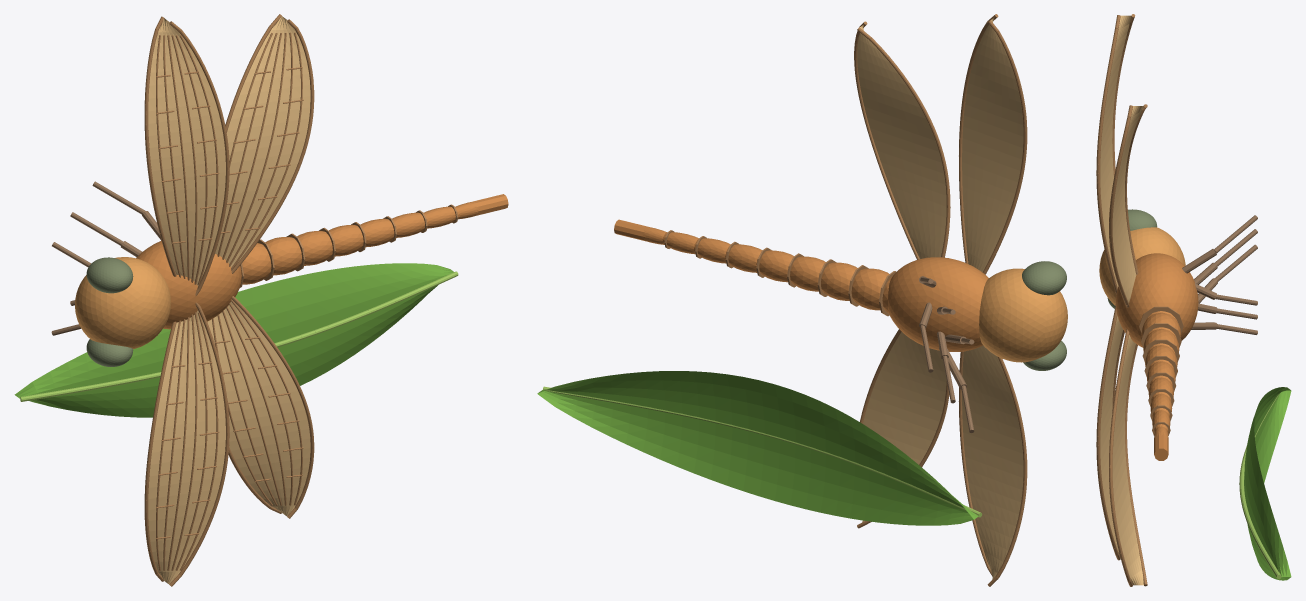
File: dragonfly_3d_model.glb
The picture shows the model from 3 angles, left to right: view 1: azimuth 30°, elevation 25°; view 2: azimuth 150°, elevation 25°; view 3: azimuth 270°, elevation 25°; orthographic projection. The views are drawn at different scales.
Visible parts, largest first — view 1: Curved green leaf perch, Fore wing membrane -1, Fore wing membrane 1, Hind wing membrane 1, Hind wing membrane -1, Head, Thorax, Right compound eye, Abdomen segment 3, Abdomen segment 4, Left compound eye, Abdomen segment 2 (+3 smaller); view 2: Curved green leaf perch, Fore wing membrane 1, Hind wing membrane 1, Fore wing membrane -1, Hind wing membrane -1, Thorax, Head, Right compound eye, Abdomen segment 2, Abdomen segment 3, Abdomen segment 4, Abdomen segment 5 (+1 smaller); view 3: Curved green leaf perch, Thorax, Hind wing membrane -1, Fore wing membrane 1, Hind wing membrane 1, Fore wing membrane -1, Head, Abdomen segment 2, Right compound eye, Abdomen segment 3, Abdomen segment 4, Abdomen segment 5 (+10 smaller).
Part boxes in pixels (x1,y1,x2,y2): Curved green leaf perch: [14, 263, 453, 417]; Fore wing membrane -1: [148, 310, 225, 584]; Fore wing membrane 1: [148, 18, 225, 286]; Hind wing membrane 1: [215, 16, 310, 267]; Hind wing membrane -1: [207, 301, 310, 516]; Head: [75, 257, 171, 348]; Thorax: [136, 240, 241, 329]; Right compound eye: [86, 257, 133, 293]; Abdomen segment 3: [265, 237, 301, 275]; Abdomen segment 4: [297, 231, 335, 265]; Left compound eye: [86, 339, 133, 366]; Abdomen segment 2: [242, 243, 271, 284]; Curved green leaf perch: [537, 371, 978, 525]; Fore wing membrane 1: [962, 17, 1023, 272]; Hind wing membrane 1: [857, 24, 946, 258]; Fore wing membrane -1: [962, 345, 1023, 579]; Hind wing membrane -1: [862, 332, 946, 522]; Thorax: [888, 257, 988, 351]; Head: [979, 268, 1067, 362]; Right compound eye: [1022, 261, 1066, 295]; Abdomen segment 2: [851, 268, 888, 310]; Abdomen segment 3: [821, 262, 857, 300]; Abdomen segment 4: [790, 256, 825, 291]; Abdomen segment 5: [756, 250, 793, 282]; Curved green leaf perch: [1244, 387, 1291, 580]; Thorax: [1116, 253, 1198, 347]; Hind wing membrane -1: [1112, 335, 1143, 585]; Fore wing membrane 1: [1100, 15, 1131, 287]; Hind wing membrane 1: [1112, 106, 1143, 302]; Fore wing membrane -1: [1100, 315, 1123, 557]; Head: [1099, 227, 1185, 305]; Abdomen segment 2: [1141, 312, 1181, 337]; Right compound eye: [1128, 209, 1157, 230]; Abdomen segment 3: [1143, 328, 1179, 353]; Abdomen segment 4: [1145, 345, 1177, 370]; Abdomen segment 5: [1147, 361, 1175, 385].
Size of the model in its own units: 2.41 by 2.91 by 0.944.
